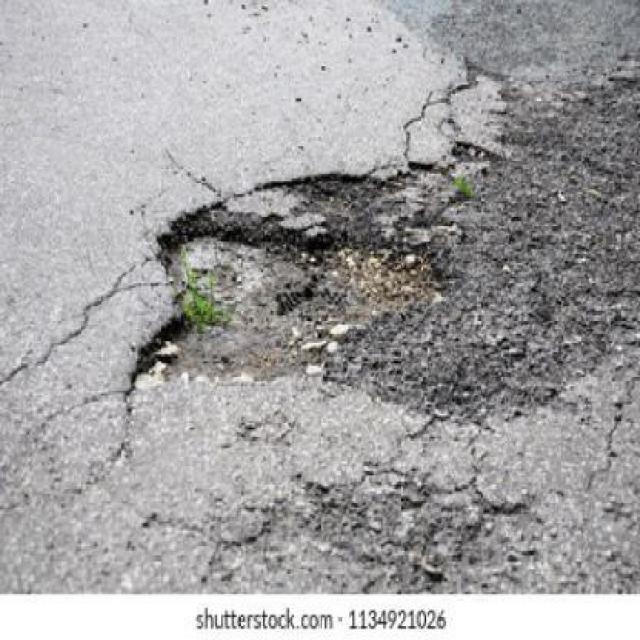pothole: (127, 201, 443, 392)
